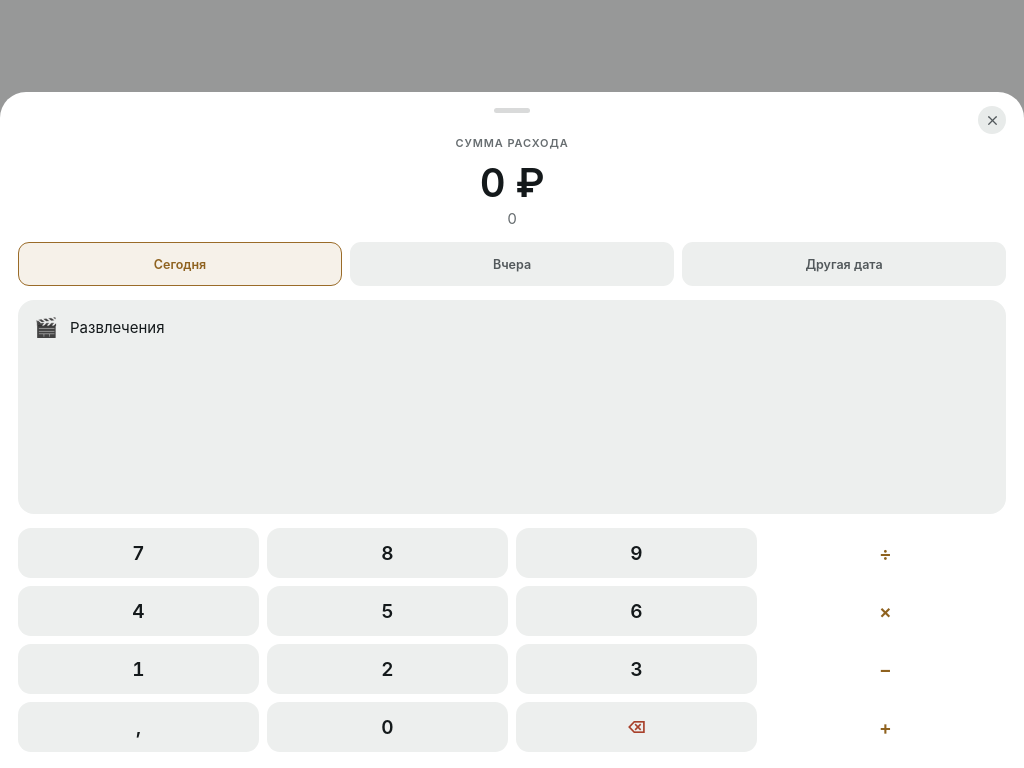
it: ExpenseModal — adding a new expense › freezes the computed total at the last complete result while an operator is left dangling mid-entry
Click the button with class "keypad__key" showing "1". click: x=138, y=669
box: [18,644,259,694]
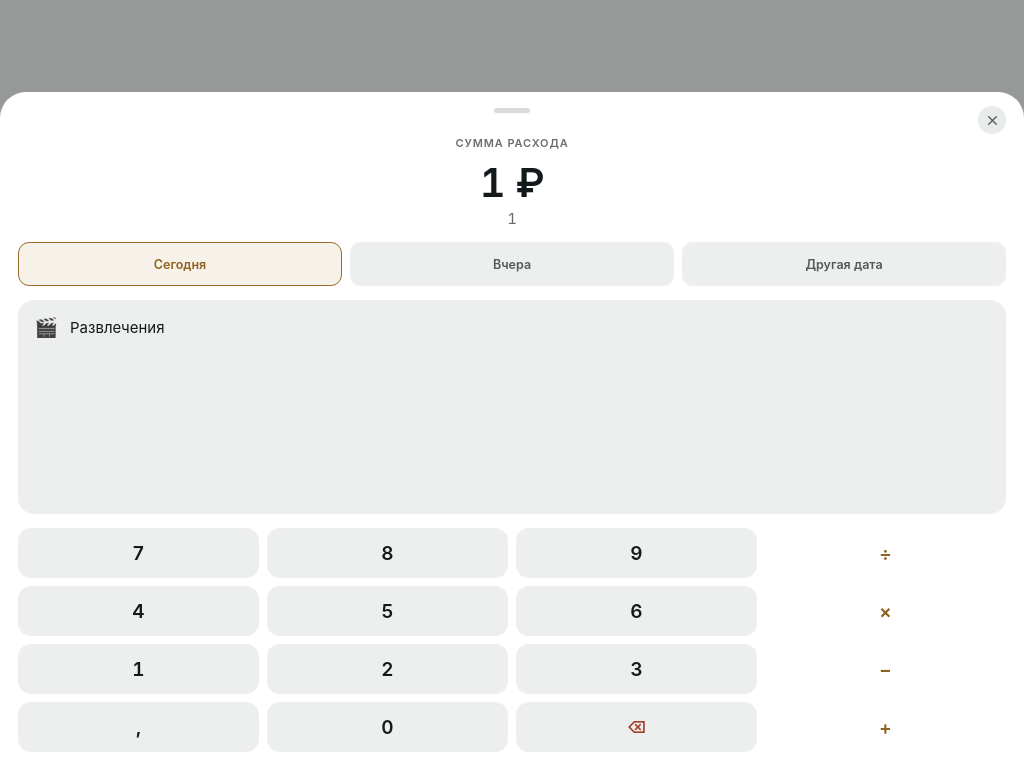
Click the button with class "keypad__key" showing "0". click: x=388, y=727
box: [267,702,508,752]
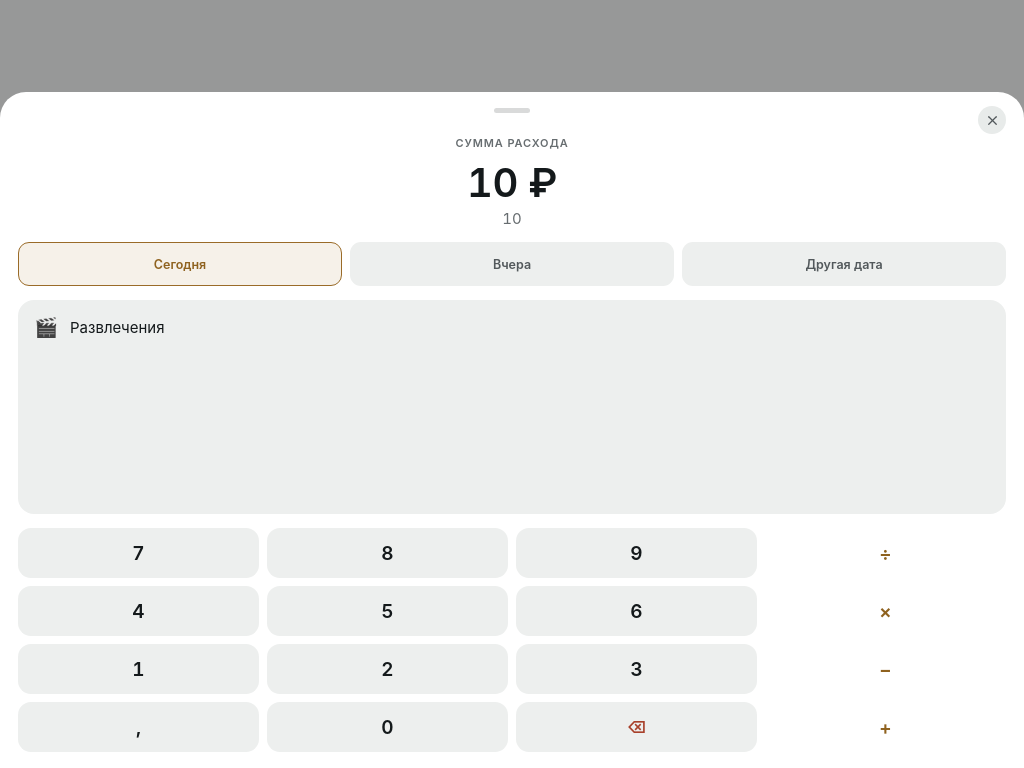
Click the button with class "keypad__key" showing "0". click: x=388, y=727
box: [267,702,508,752]
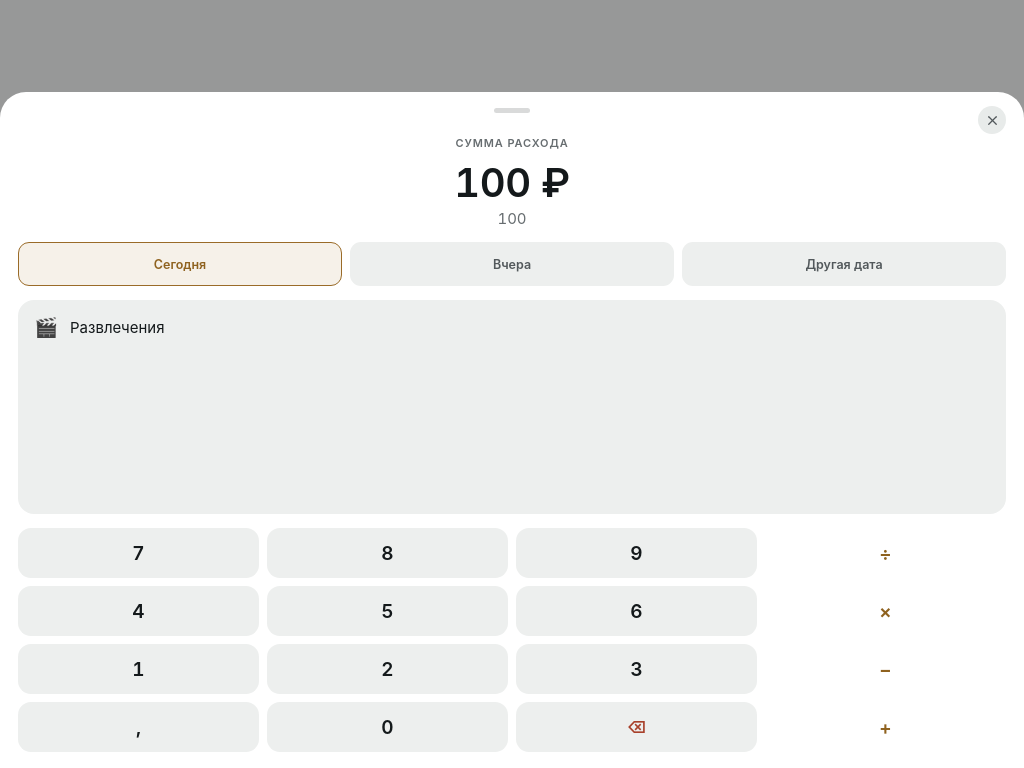
Click the button with class "keypad__key" showing "0". click: x=388, y=727
box: [267,702,508,752]
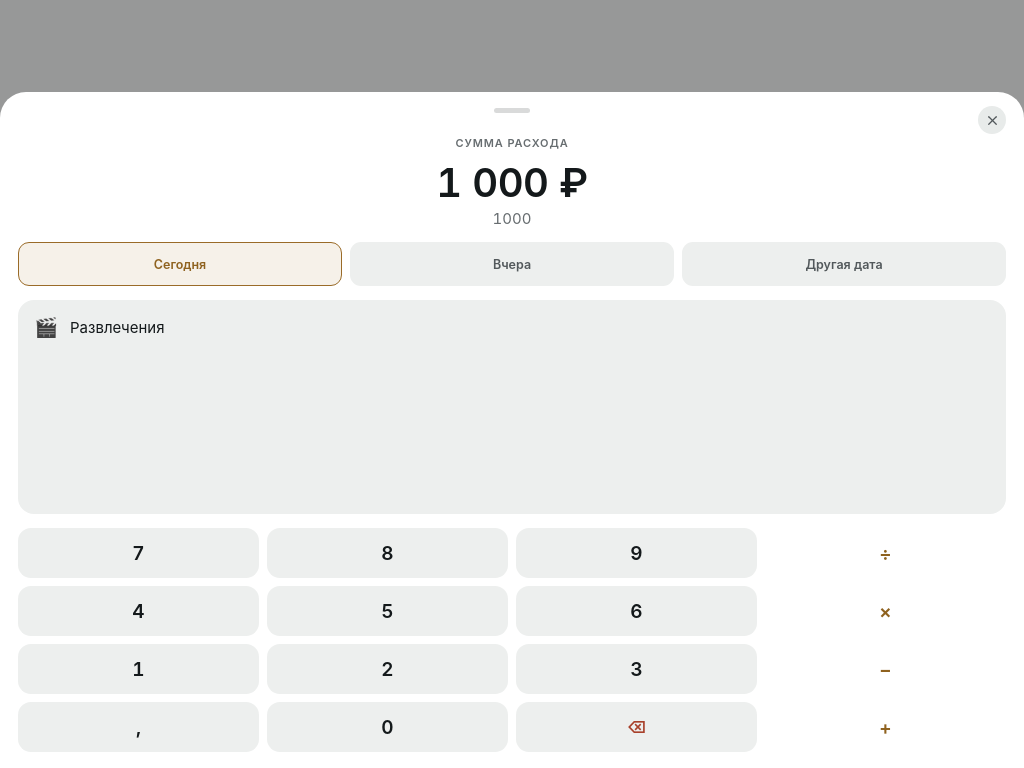
Click the button with class "keypad__key" showing "+". click: x=886, y=727
box: [765,702,1006,752]
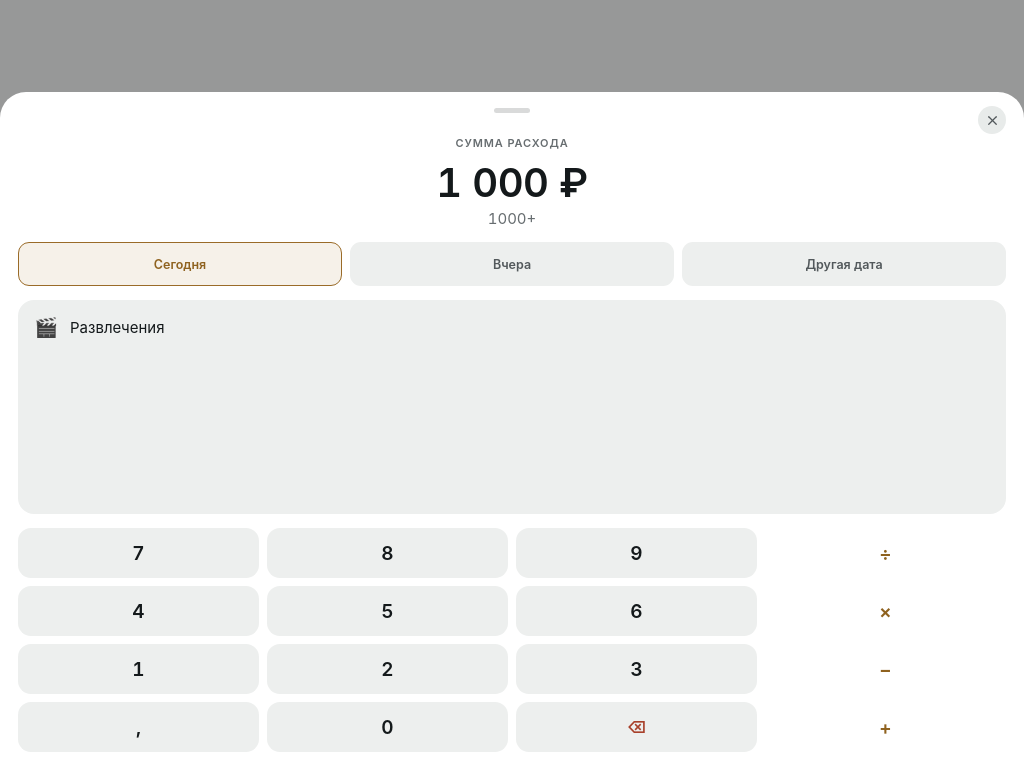
Result: the text with class "expense-modal__entry-total" reads "1 000 ₽" at [436,158,588,207]
Result: the text with class "expense-modal__entry-expression" reads "1000+" at [488,209,536,228]
